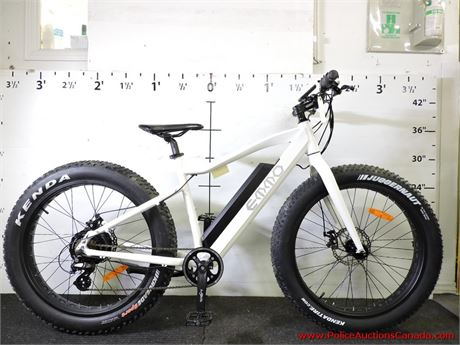bicycle: (5, 70, 446, 337)
